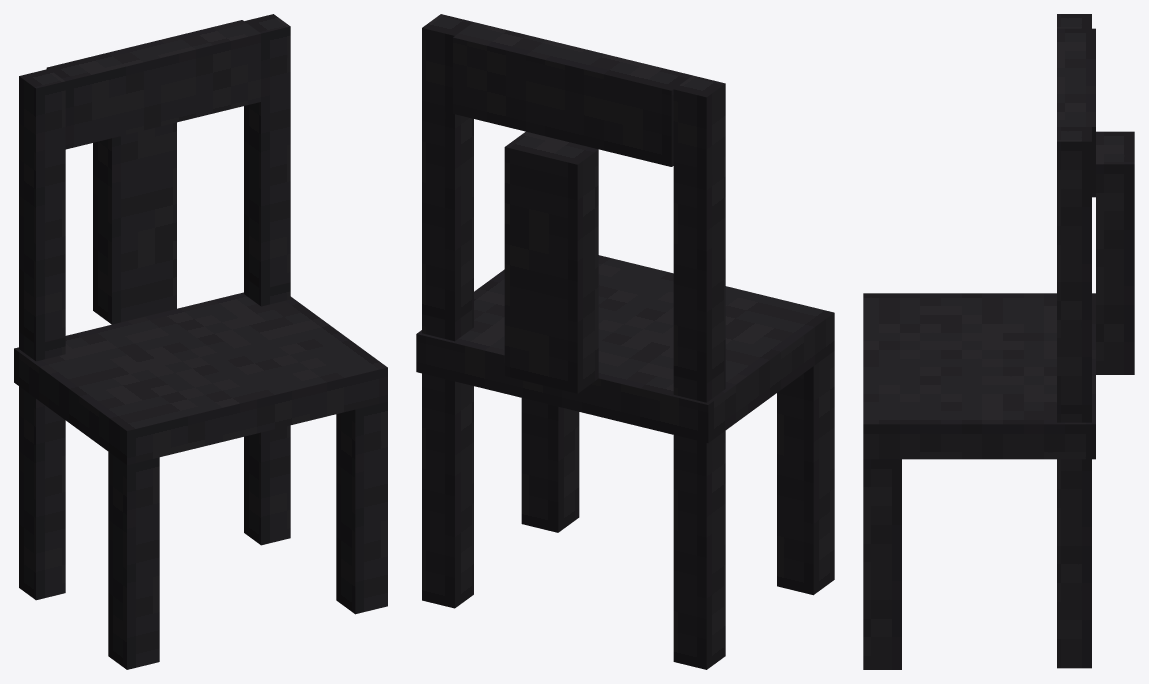
The model's file is diningChairMansion_1.glb.
3 views of the same model, side by side, from view 1: azimuth 30°, elevation 25°; view 2: azimuth 150°, elevation 25°; view 3: azimuth 270°, elevation 25° (orthographic). The views are drawn at different scales.
Parts seen in each view (by area): view 1: diningChairMansion_1; view 2: diningChairMansion_1; view 3: diningChairMansion_1.
Boxes of the visible parts, x1,y1,x2,y2 form: diningChairMansion_1: (14,14,387,669); diningChairMansion_1: (416,14,834,669); diningChairMansion_1: (863,14,1134,669).
Bounding box in the file's own units: 0.5 × 0.9375 × 0.4375.
Materials: 1 (1 with a texture image).
